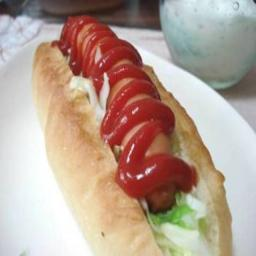hotdog: (30, 14, 232, 256)
